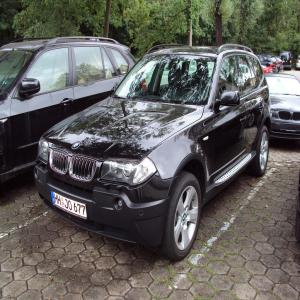Vehicle-registration-plate: (51, 192, 88, 221)
